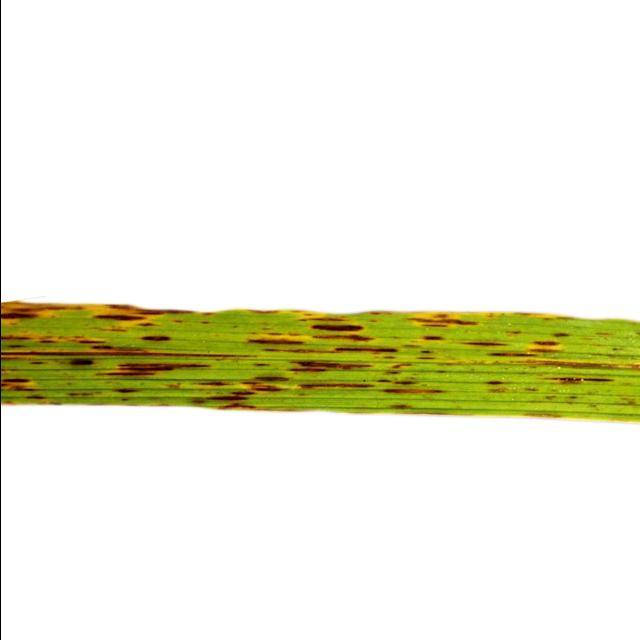Narrow brown: (0, 238, 640, 493)
